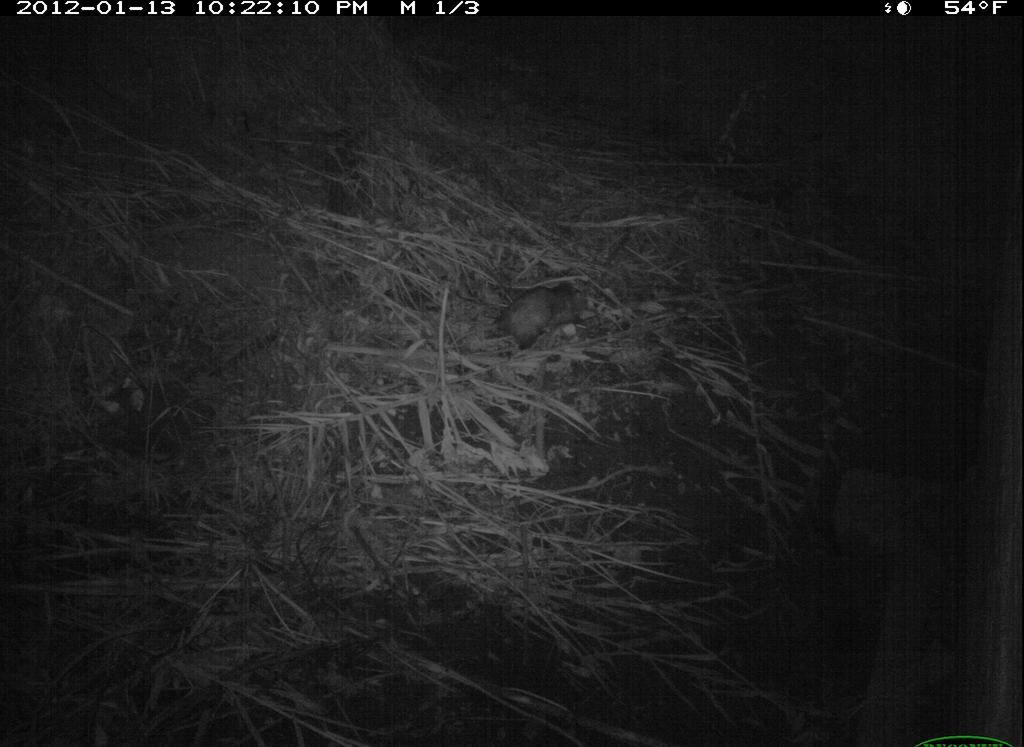opossum: (465, 271, 588, 364)
